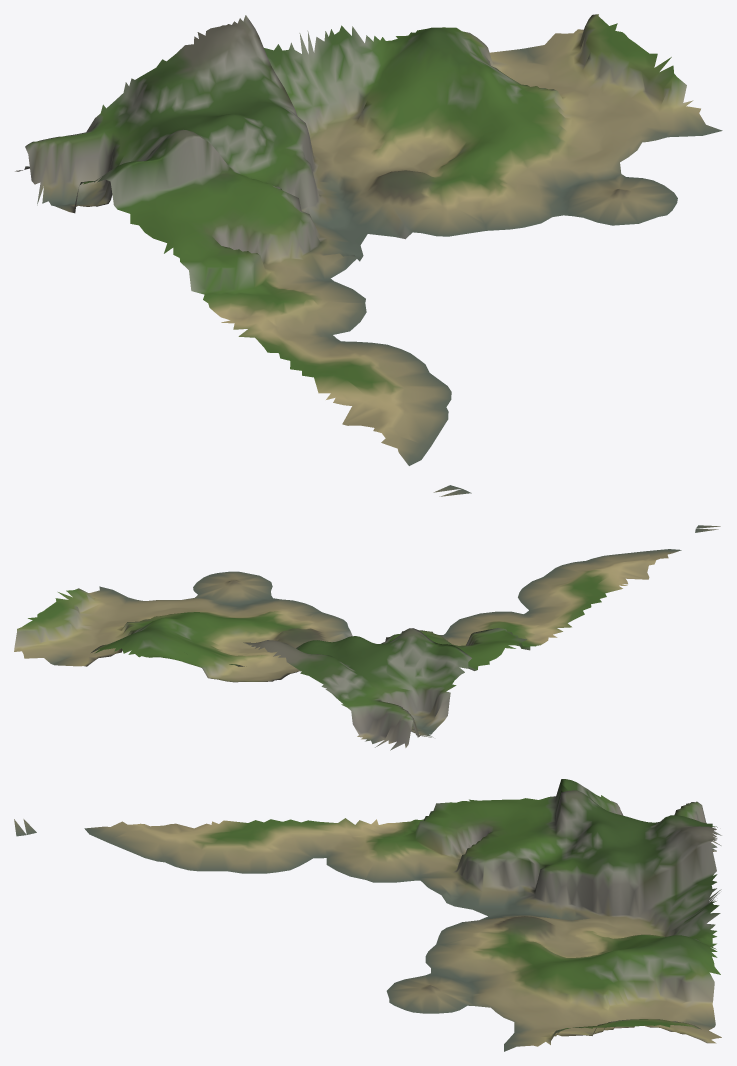
The model's file is coast_tile_x1z2_lod1.glb.
3 renders of one model, top to bottom at view 1: azimuth 30°, elevation 25°; view 2: azimuth 150°, elevation 25°; view 3: azimuth 270°, elevation 25°, orthographic. The views are drawn at different scales.
Parts seen in each view (by area): view 1: coast_tile_x1z2_lod1; view 2: coast_tile_x1z2_lod1; view 3: coast_tile_x1z2_lod1.
Boxes of the visible parts, x1,y1,x2,y2 form: coast_tile_x1z2_lod1: (15,14,722,496); coast_tile_x1z2_lod1: (14,525,720,750); coast_tile_x1z2_lod1: (14,779,721,1051).
Bounding box in the file's own units: 630 × 108 × 816.
